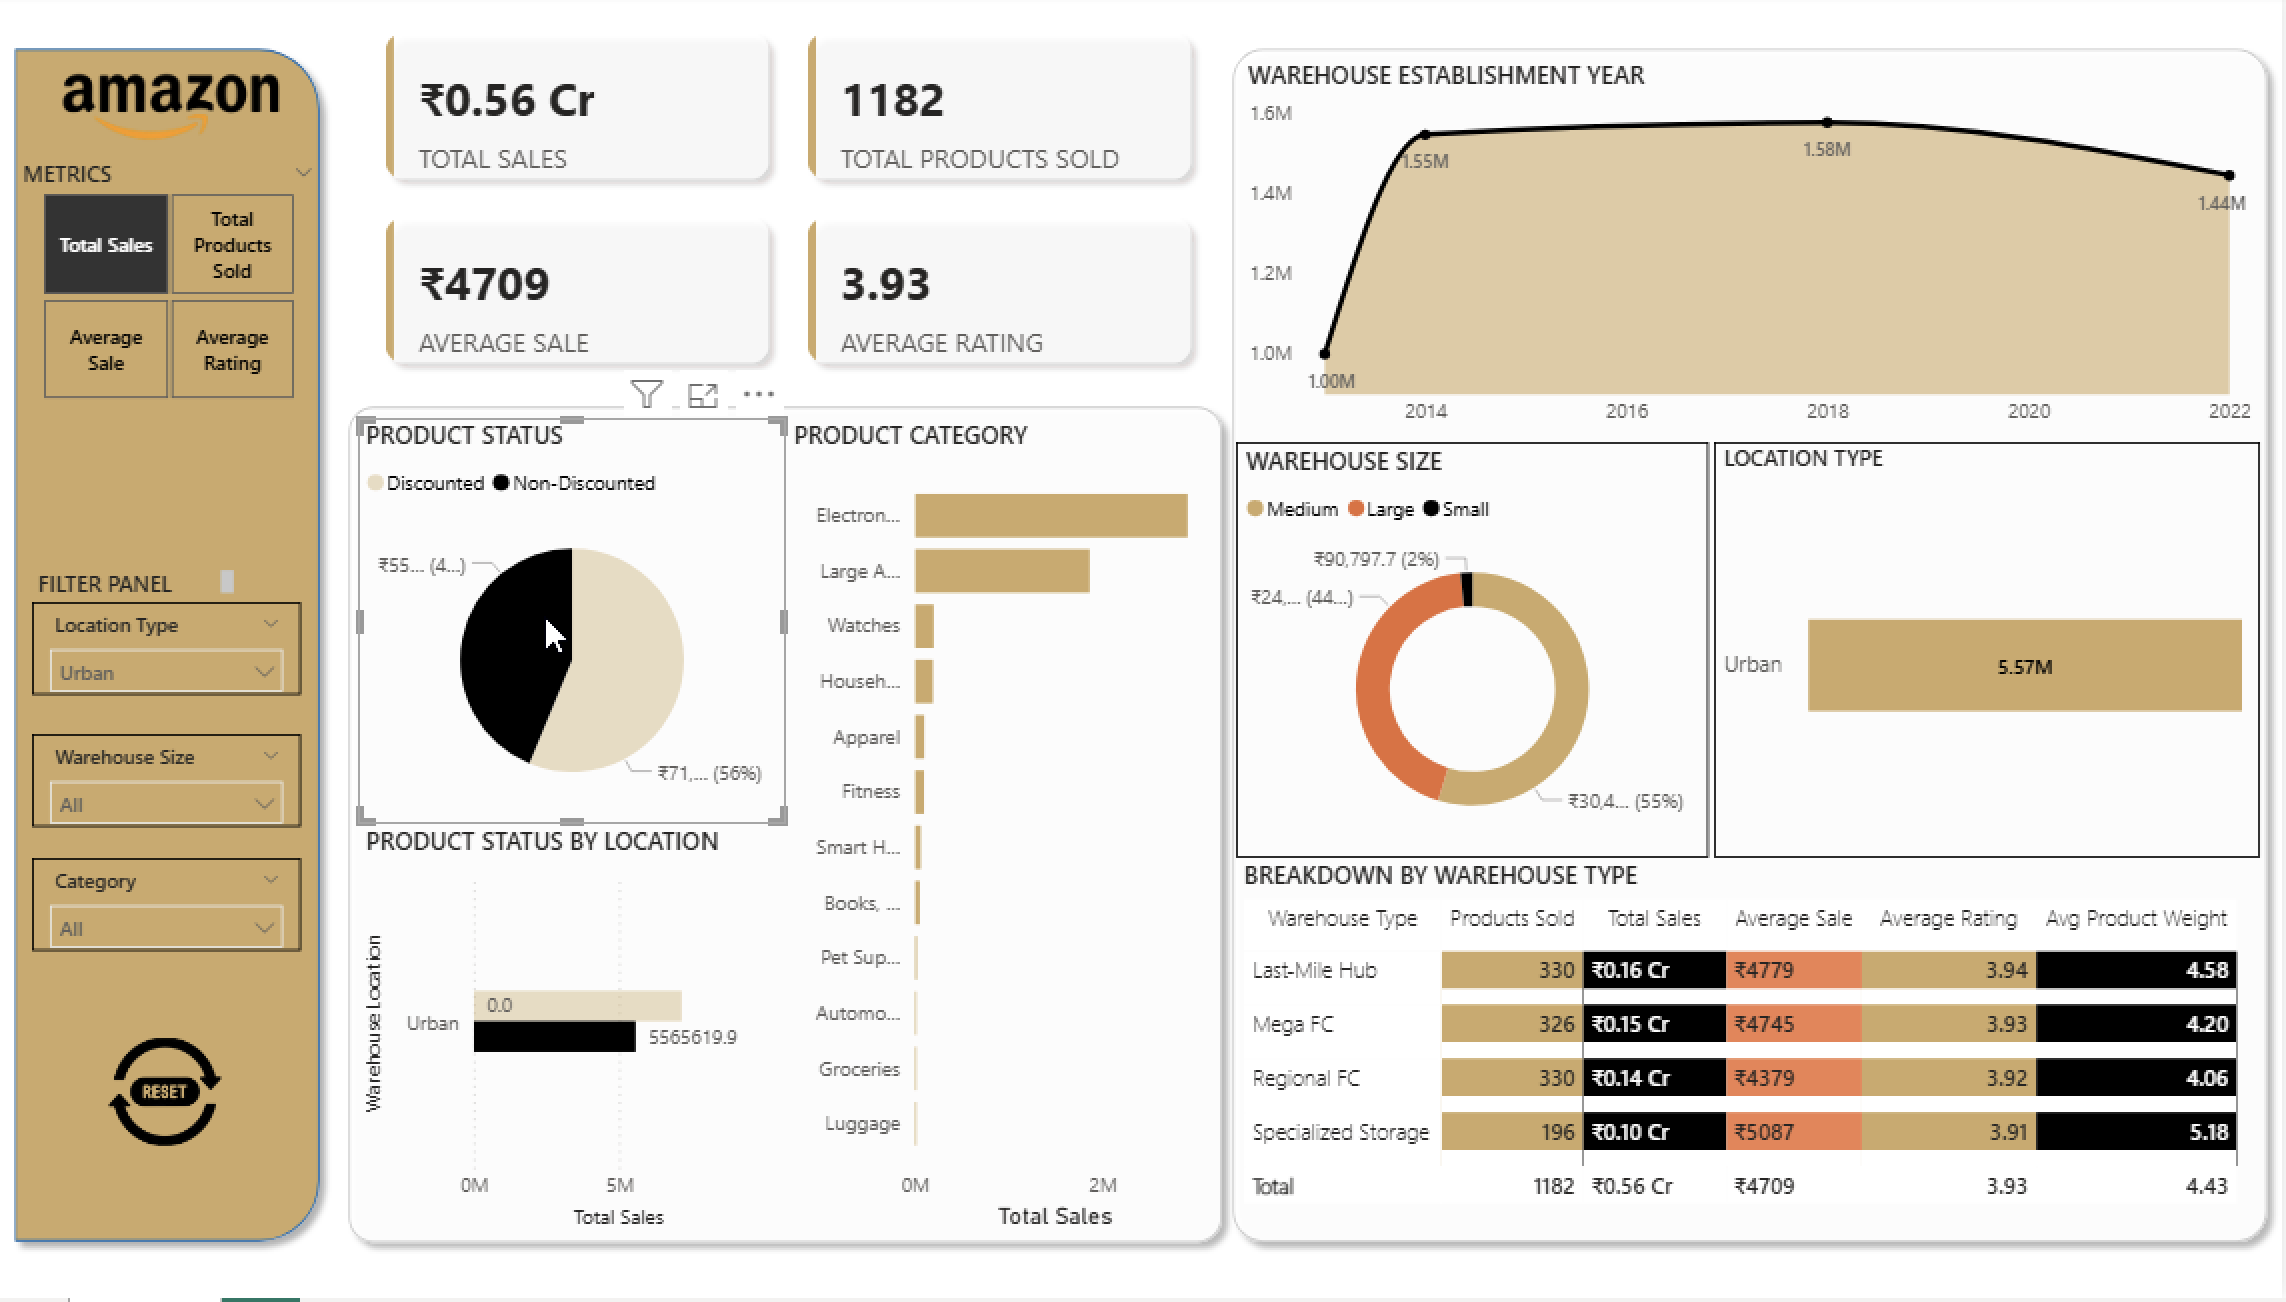

This screenshot's page, from the dashboard's own definition file:
{"tool":"powerbi","page":{"name":"Page 1","canvas":[1400,800],"ordinal":0},"visuals":[{"type":"shape","box":[0,24.9,205,749.7],"z":0},{"type":"image","box":[0,39.6,205.1,58],"z":1000},{"type":"cardVisual","fields":{"Data":["Sheet 1 - FINAL FILE.Total Sales","Sheet 1 - FINAL FILE.Total Products Sold","Sheet 1 - FINAL FILE.Average Sale","Sheet 1 - FINAL FILE.Average Rating"]},"box":[219.3,6.8,528,236.9],"z":2000},{"type":"shape","box":[204.4,243.7,553.8,530.8],"z":3000},{"type":"pieChart","title":"PRODUCT STATUS","fields":{"Y":["Sheet 1 - FINAL FILE.Overall Sales"],"Category":["Sheet 1 - FINAL FILE.Product Status"]},"box":[219.3,260,262.7,249.1],"z":4000},{"type":"slicer","fields":{"Values":["Metrics.Metrics"]},"box":[1.4,97.5,203.1,158.4],"z":5000},{"type":"clusteredBarChart","title":"PRODUCT STATUS BY LOCATION","fields":{"Y":["Sheet 1 - FINAL FILE.Overall Sales"],"Category":["Sheet 1 - FINAL FILE.Warehouse Location"],"Series":["Sheet 1 - FINAL FILE.Product Status"]},"box":[219.3,509.1,262.7,253.2],"z":6000},{"type":"barChart","title":"PRODUCT CATEGORY","fields":{"Y":["Sheet 1 - FINAL FILE.Overall Sales"],"Category":["Sheet 1 - FINAL FILE.Category"]},"box":[482,260,265.4,502.3],"z":7000},{"type":"shape","box":[747.4,24.4,652.6,750.1],"z":8000},{"type":"lineChart","title":"WAREHOUSE ESTABLISHMENT YEAR","fields":{"Y":["Sheet 1 - FINAL FILE.Overall Sales"],"Category":["Sheet 1 - FINAL FILE.Warehouse Establishment Year"]},"box":[761,39.2,625,235.4],"z":9000},{"type":"donutChart","title":"WAREHOUSE SIZE","fields":{"Y":["Sheet 1 - FINAL FILE.Overall Sales"],"Category":["Sheet 1 - FINAL FILE.Warehouse Size"]},"box":[758.2,274.7,290.1,255.1],"z":10000},{"type":"funnel","title":"LOCATION TYPE","fields":{"Category":["Sheet 1 - FINAL FILE.Warehouse Location"],"Y":["Sheet 1 - FINAL FILE.Overall Sales"]},"box":[1051.1,274.7,334.9,255.1],"z":11000},{"type":"pivotTable","title":"BREAKDOWN BY WAREHOUSE TYPE","fields":{"Rows":["Sheet 1 - FINAL FILE.Warehouse Type"],"Values":["Sheet 1 - FINAL FILE.Products Sold","Sheet 1 - FINAL FILE.Total Sales","Sheet 1 - FINAL FILE.Average Sale","Sheet 1 - FINAL FILE.Average Rating","Avg(Sheet 1 - FINAL FILE.Product Weight)"]},"box":[758.2,529.7,626.4,232.6],"z":12000},{"type":"slicer","fields":{"Values":["Sheet 1 - FINAL FILE.Warehouse Location"]},"box":[19.6,372.8,165.4,57.5],"z":13000},{"type":"slicer","fields":{"Values":["Sheet 1 - FINAL FILE.Warehouse Size"]},"box":[19.6,454.1,165.4,57.5],"z":14000},{"type":"slicer","fields":{"Values":["Sheet 1 - FINAL FILE.Category"]},"box":[19.6,529.7,165.4,57.5],"z":15000},{"type":"textbox","box":[19,348,130,24.4],"z":16000},{"type":"image","box":[58.8,635.1,84.8,76.1],"z":17000}]}

Visuals, with their boxes in screenshot pixels (x1, y1, x2, y2), scaled from the page's 1400x800 canvas onto the 2286x1302 screenshot:
shape: box(0, 41, 335, 1261)
image: box(0, 64, 335, 159)
cardVisual - Sheet 1 - FINAL FILE.Total Sales x Sheet 1 - FINAL FILE.Total Products Sold: box(358, 11, 1220, 397)
shape: box(334, 397, 1238, 1260)
"PRODUCT STATUS" pieChart: box(358, 423, 787, 829)
slicer - Metrics.Metrics: box(2, 159, 334, 416)
"PRODUCT STATUS BY LOCATION" clusteredBarChart: box(358, 829, 787, 1241)
"PRODUCT CATEGORY" barChart: box(787, 423, 1220, 1241)
shape: box(1220, 40, 2285, 1260)
"WAREHOUSE ESTABLISHMENT YEAR" lineChart: box(1243, 64, 2263, 447)
"WAREHOUSE SIZE" donutChart: box(1238, 447, 1712, 862)
"LOCATION TYPE" funnel: box(1716, 447, 2263, 862)
"BREAKDOWN BY WAREHOUSE TYPE" pivotTable: box(1238, 862, 2261, 1241)
slicer - Sheet 1 - FINAL FILE.Warehouse Location: box(32, 607, 302, 700)
slicer - Sheet 1 - FINAL FILE.Warehouse Size: box(32, 739, 302, 833)
slicer - Sheet 1 - FINAL FILE.Category: box(32, 862, 302, 956)
textbox: box(31, 566, 243, 606)
image: box(96, 1034, 234, 1157)
